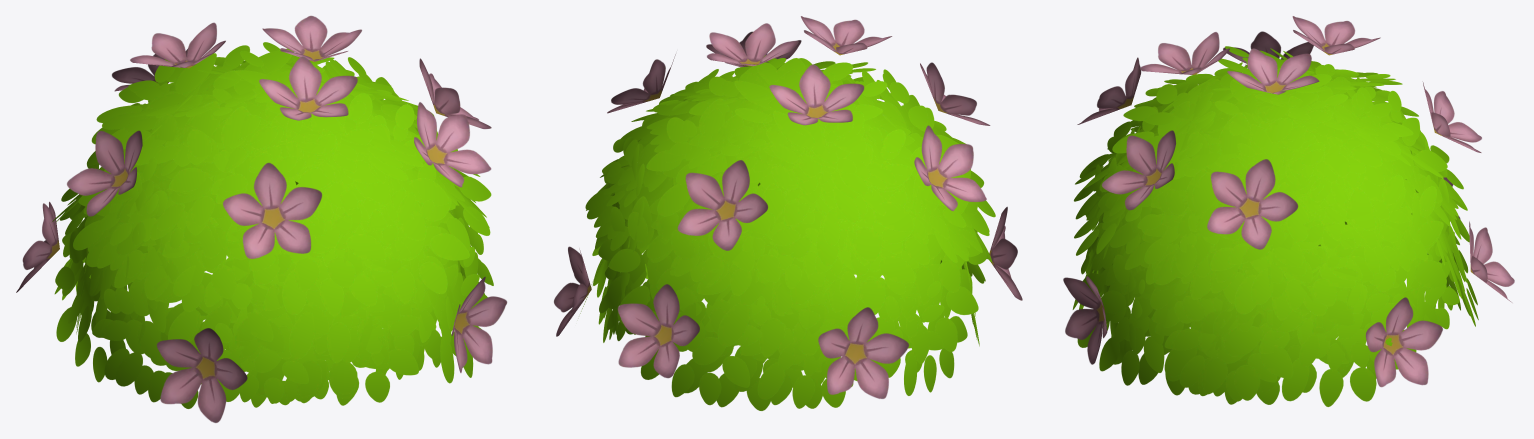
The model's file is bush_flowers.glb.
3 renders of one model, left to right at view 1: azimuth 30°, elevation 25°; view 2: azimuth 150°, elevation 25°; view 3: azimuth 270°, elevation 25°, orthographic. The views are drawn at different scales.
Visible parts, largest first — view 1: Bush_Flowers; view 2: Bush_Flowers; view 3: Bush_Flowers.
Part boxes in pixels (box(x1,y1,x2,y2)): Bush_Flowers: box(16, 15, 507, 422); Bush_Flowers: box(554, 16, 1022, 410); Bush_Flowers: box(1063, 16, 1514, 406).
Size of the model in its own units: 1.09 by 0.7586 by 1.11.
2 materials, 2 textured.
